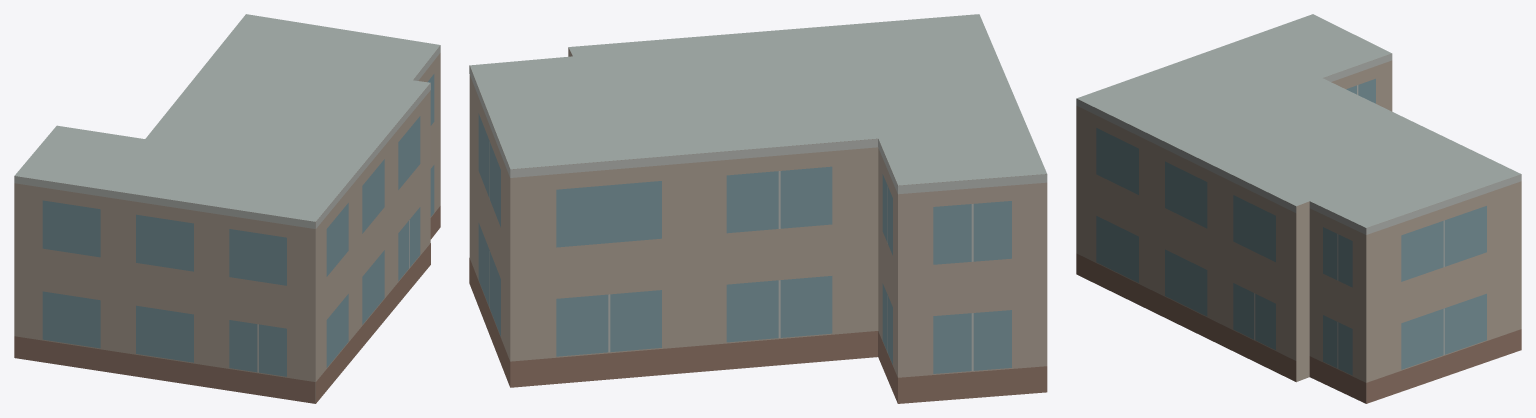
File: survey-upis-32928415.glb
3 renders of one model, left to right at view 1: azimuth 30°, elevation 25°; view 2: azimuth 150°, elevation 25°; view 3: azimuth 270°, elevation 25°, orthographic. The views are drawn at different scales.
Visible parts, largest first — view 1: survey-upis-32928415.tmp; view 2: survey-upis-32928415.tmp; view 3: survey-upis-32928415.tmp.
Part boxes in pixels (bbox=[...]): survey-upis-32928415.tmp: bbox=[14, 14, 440, 403]; survey-upis-32928415.tmp: bbox=[469, 14, 1047, 403]; survey-upis-32928415.tmp: bbox=[1076, 14, 1521, 403].
Bounding box in the file's own units: 15.93 × 6.1 × 14.
